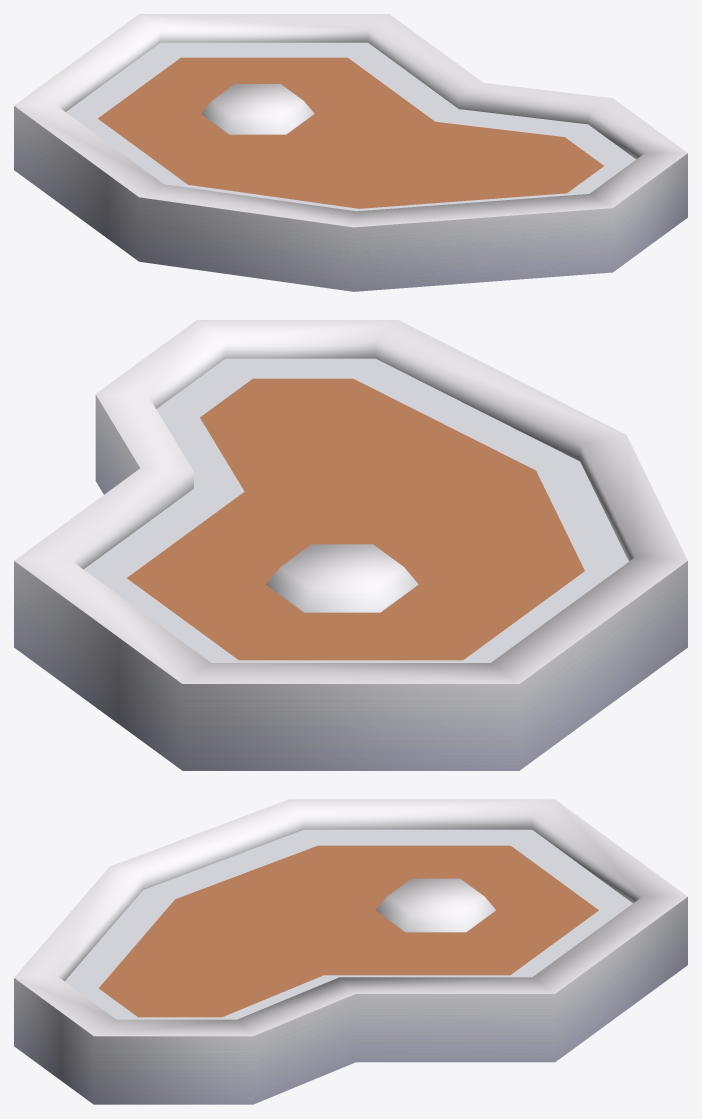
File: meat-raw.glb
The picture shows the model from 3 angles, top to bottom: view 1: azimuth 30°, elevation 25°; view 2: azimuth 150°, elevation 25°; view 3: azimuth 270°, elevation 25°; orthographic projection. The views are drawn at different scales.
Parts seen in each view (by area): view 1: meat-raw; view 2: meat-raw; view 3: meat-raw.
Part boxes in pixels (left/top/right/bottom): meat-raw: left=14, top=14, right=687, bottom=291; meat-raw: left=14, top=320, right=687, bottom=770; meat-raw: left=14, top=799, right=687, bottom=1104.
Size of the model in its own units: 0.4785 by 0.0645 by 0.5754.
Materials: 1 (1 with a texture image).
